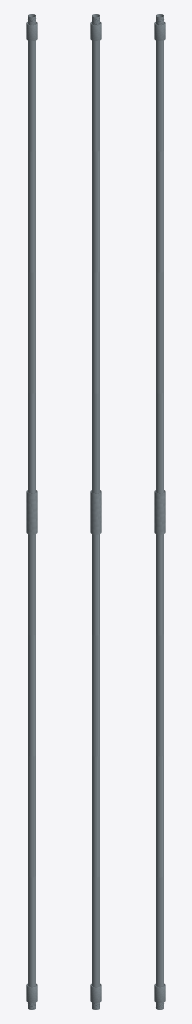
File: hwdp.glb
3 views of the same model, side by side, from view 1: azimuth 90°, elevation 25°; view 2: azimuth 150°, elevation 25°; view 3: azimuth 270°, elevation 25° (orthographic).
Parts seen in each view (by area): view 1: tool-housing (×2), tool-joints (×2), centre-upset; view 2: tool-housing, centre-upset, tool-joints; view 3: tool-housing (×2), tool-joints (×2), centre-upset.
Part boxes in pixels (box(x1,y1,x2,y2)): tool-housing (×2): box(28, 16, 35, 1009); tool-joints (×2): box(26, 22, 37, 1002); centre-upset: box(26, 490, 37, 534); tool-housing: box(92, 16, 99, 1009); centre-upset: box(90, 490, 101, 534); tool-joints: box(90, 22, 101, 1002); tool-housing (×2): box(156, 16, 163, 1009); tool-joints (×2): box(154, 22, 165, 1002); centre-upset: box(154, 490, 165, 534).
Size of the model in its own units: 0.1016 by 9.72 by 0.1016.
2 materials, 2 textured.
